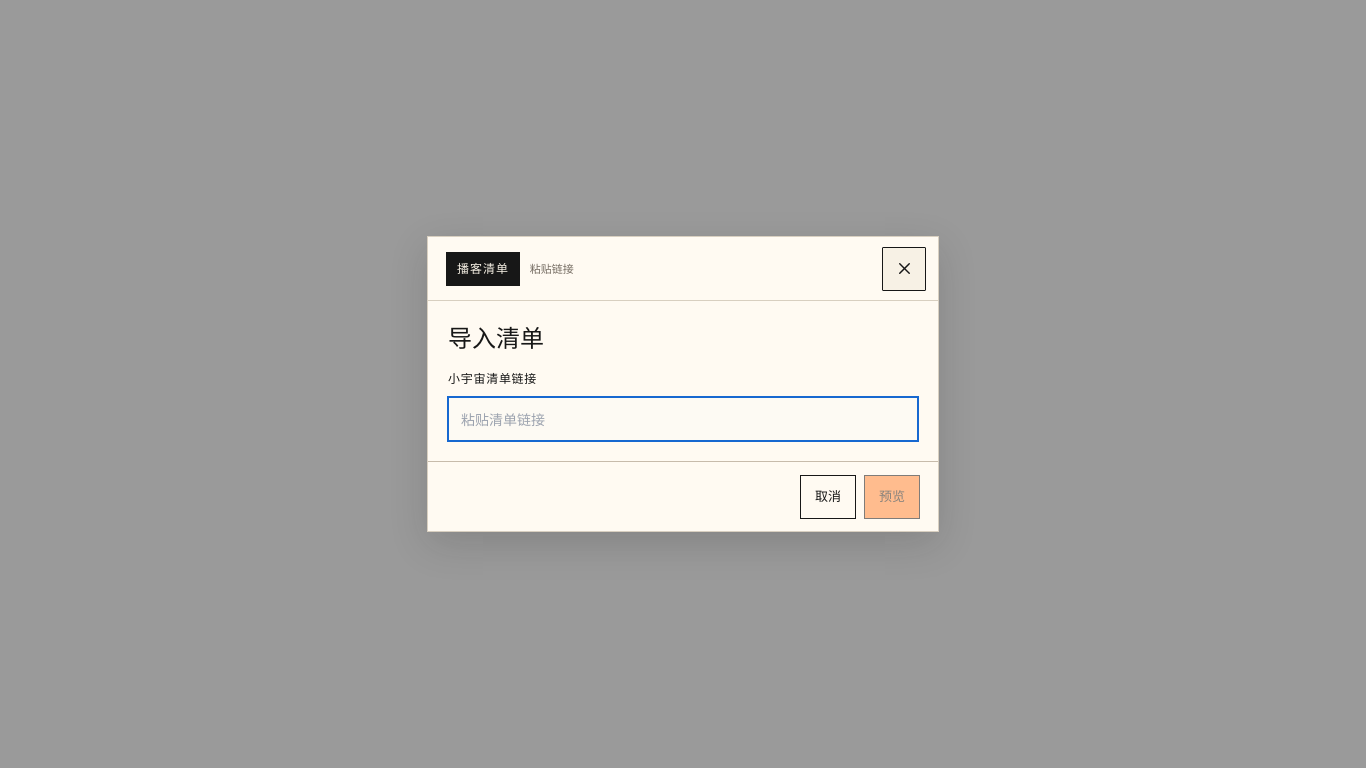
Test case: ImportCollectionModal › previews a URL and shows the read count and original recommendations
Type "https://www.xiaoyuzhoufm.com/collection/episode/6a20323b78a52c96d821a769" into the field labelled "小宇宙清单链接".
click(683, 419); type("https://www.xiaoyuzhoufm.com/collection/episode/6a20323b78a52c96d821a769")  # box [448,397,918,441]
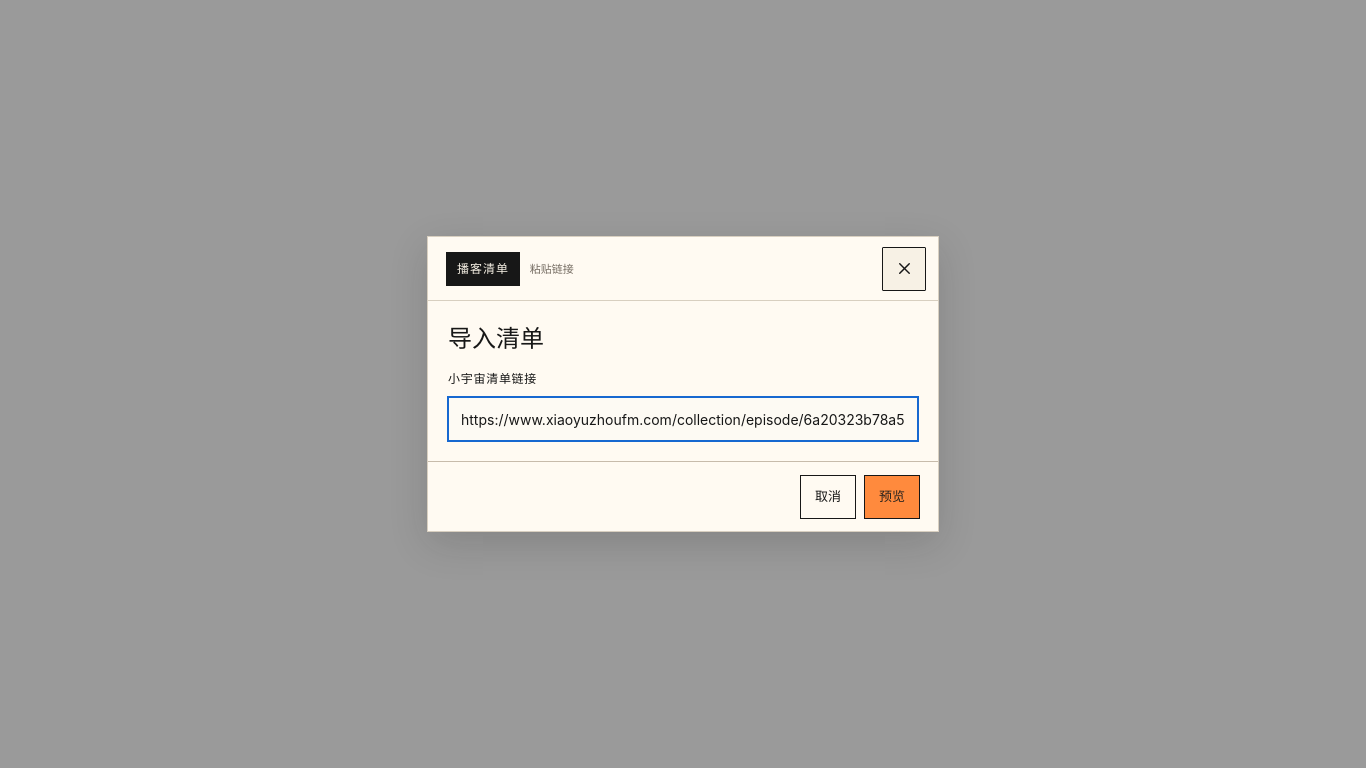
Click the button "预览".
click(892, 496)  # box [864,474,920,518]
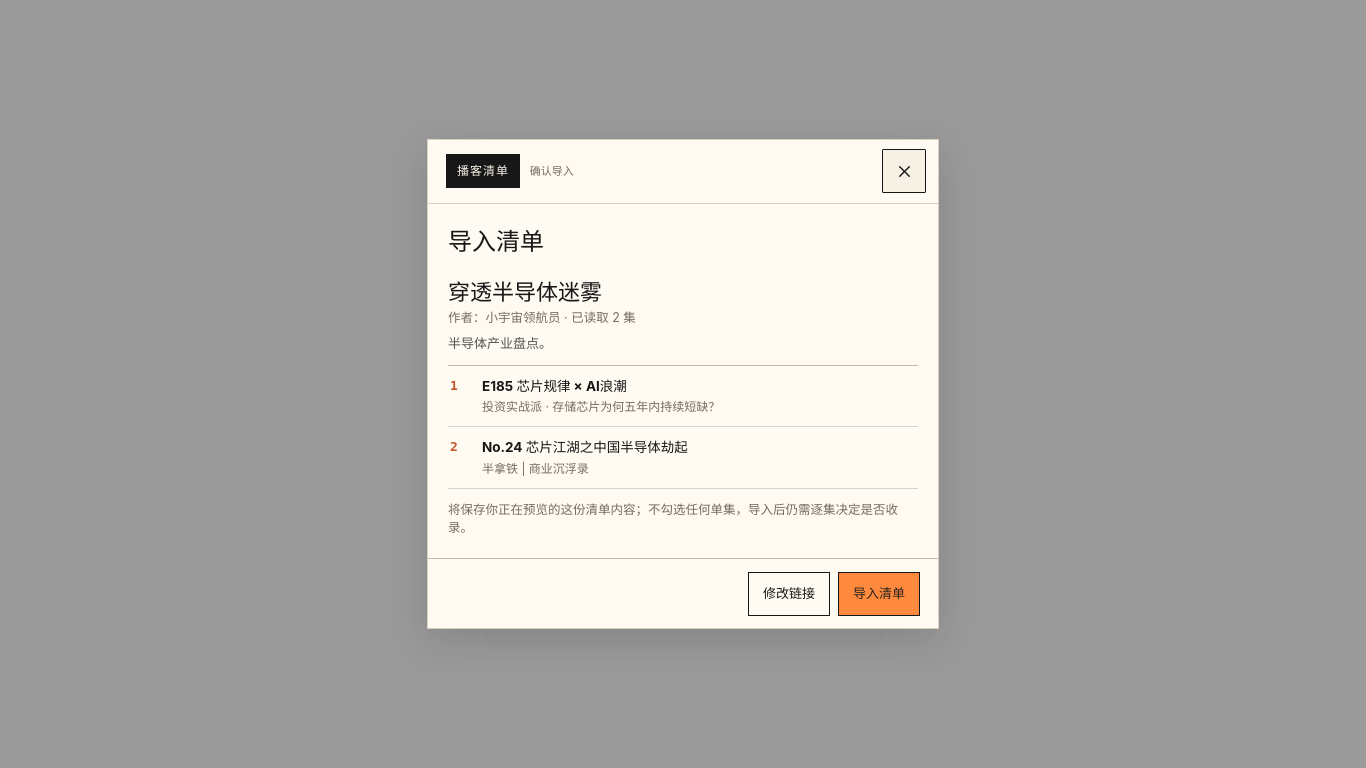
Check: the heading "穿透半导体迷雾" is shown, box [448,280,602,305]
Check: the text "作者：小宇宙领航员 · 已读取 2 集" is shown, box [448,310,636,325]
Check: the text "投资实战派 · 存储芯片为何五年内持续短缺？" is shown, box [482,398,720,416]
